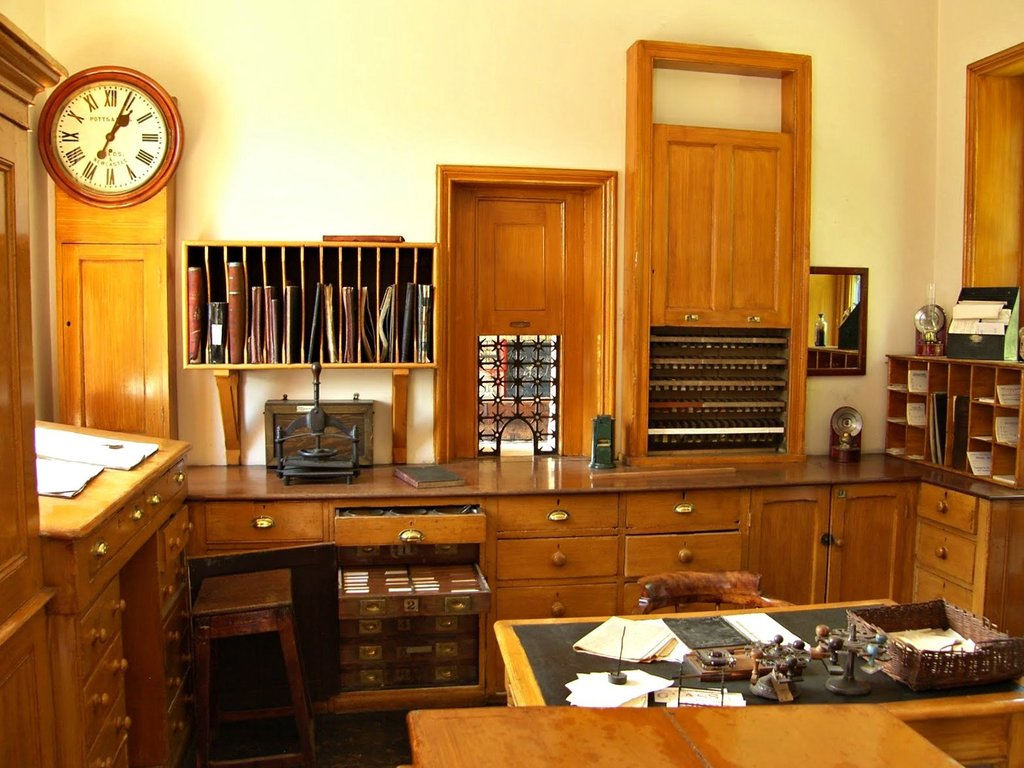cabinet door: (70, 255, 162, 422), (729, 141, 793, 323), (659, 134, 719, 323), (481, 197, 558, 324), (754, 503, 825, 595), (195, 502, 329, 547), (839, 490, 898, 591), (334, 514, 479, 548), (503, 542, 614, 578), (507, 499, 619, 531), (500, 583, 622, 612), (629, 534, 729, 567), (635, 498, 734, 527), (77, 668, 129, 718), (918, 535, 978, 576), (77, 596, 129, 637), (407, 645, 471, 671), (86, 518, 125, 559), (417, 594, 476, 620), (926, 494, 976, 524), (346, 598, 405, 621), (350, 666, 410, 688), (86, 730, 126, 761), (410, 668, 481, 685), (346, 623, 398, 644), (119, 498, 152, 530), (142, 485, 173, 517), (353, 645, 402, 663), (162, 467, 190, 498), (415, 628, 474, 640)
handle: (88, 617, 110, 652), (550, 508, 583, 530), (88, 689, 113, 714), (250, 511, 278, 533), (398, 528, 427, 547), (541, 546, 571, 564), (676, 499, 710, 514), (95, 531, 113, 559), (673, 548, 698, 566), (437, 640, 465, 656), (111, 714, 135, 732), (358, 647, 385, 663), (446, 594, 471, 611), (546, 598, 570, 614), (176, 469, 189, 498), (146, 493, 162, 515), (93, 754, 118, 768), (934, 495, 947, 519), (930, 543, 947, 560), (830, 533, 846, 551), (110, 592, 122, 614), (111, 655, 126, 672), (130, 510, 144, 526), (362, 601, 381, 611)
